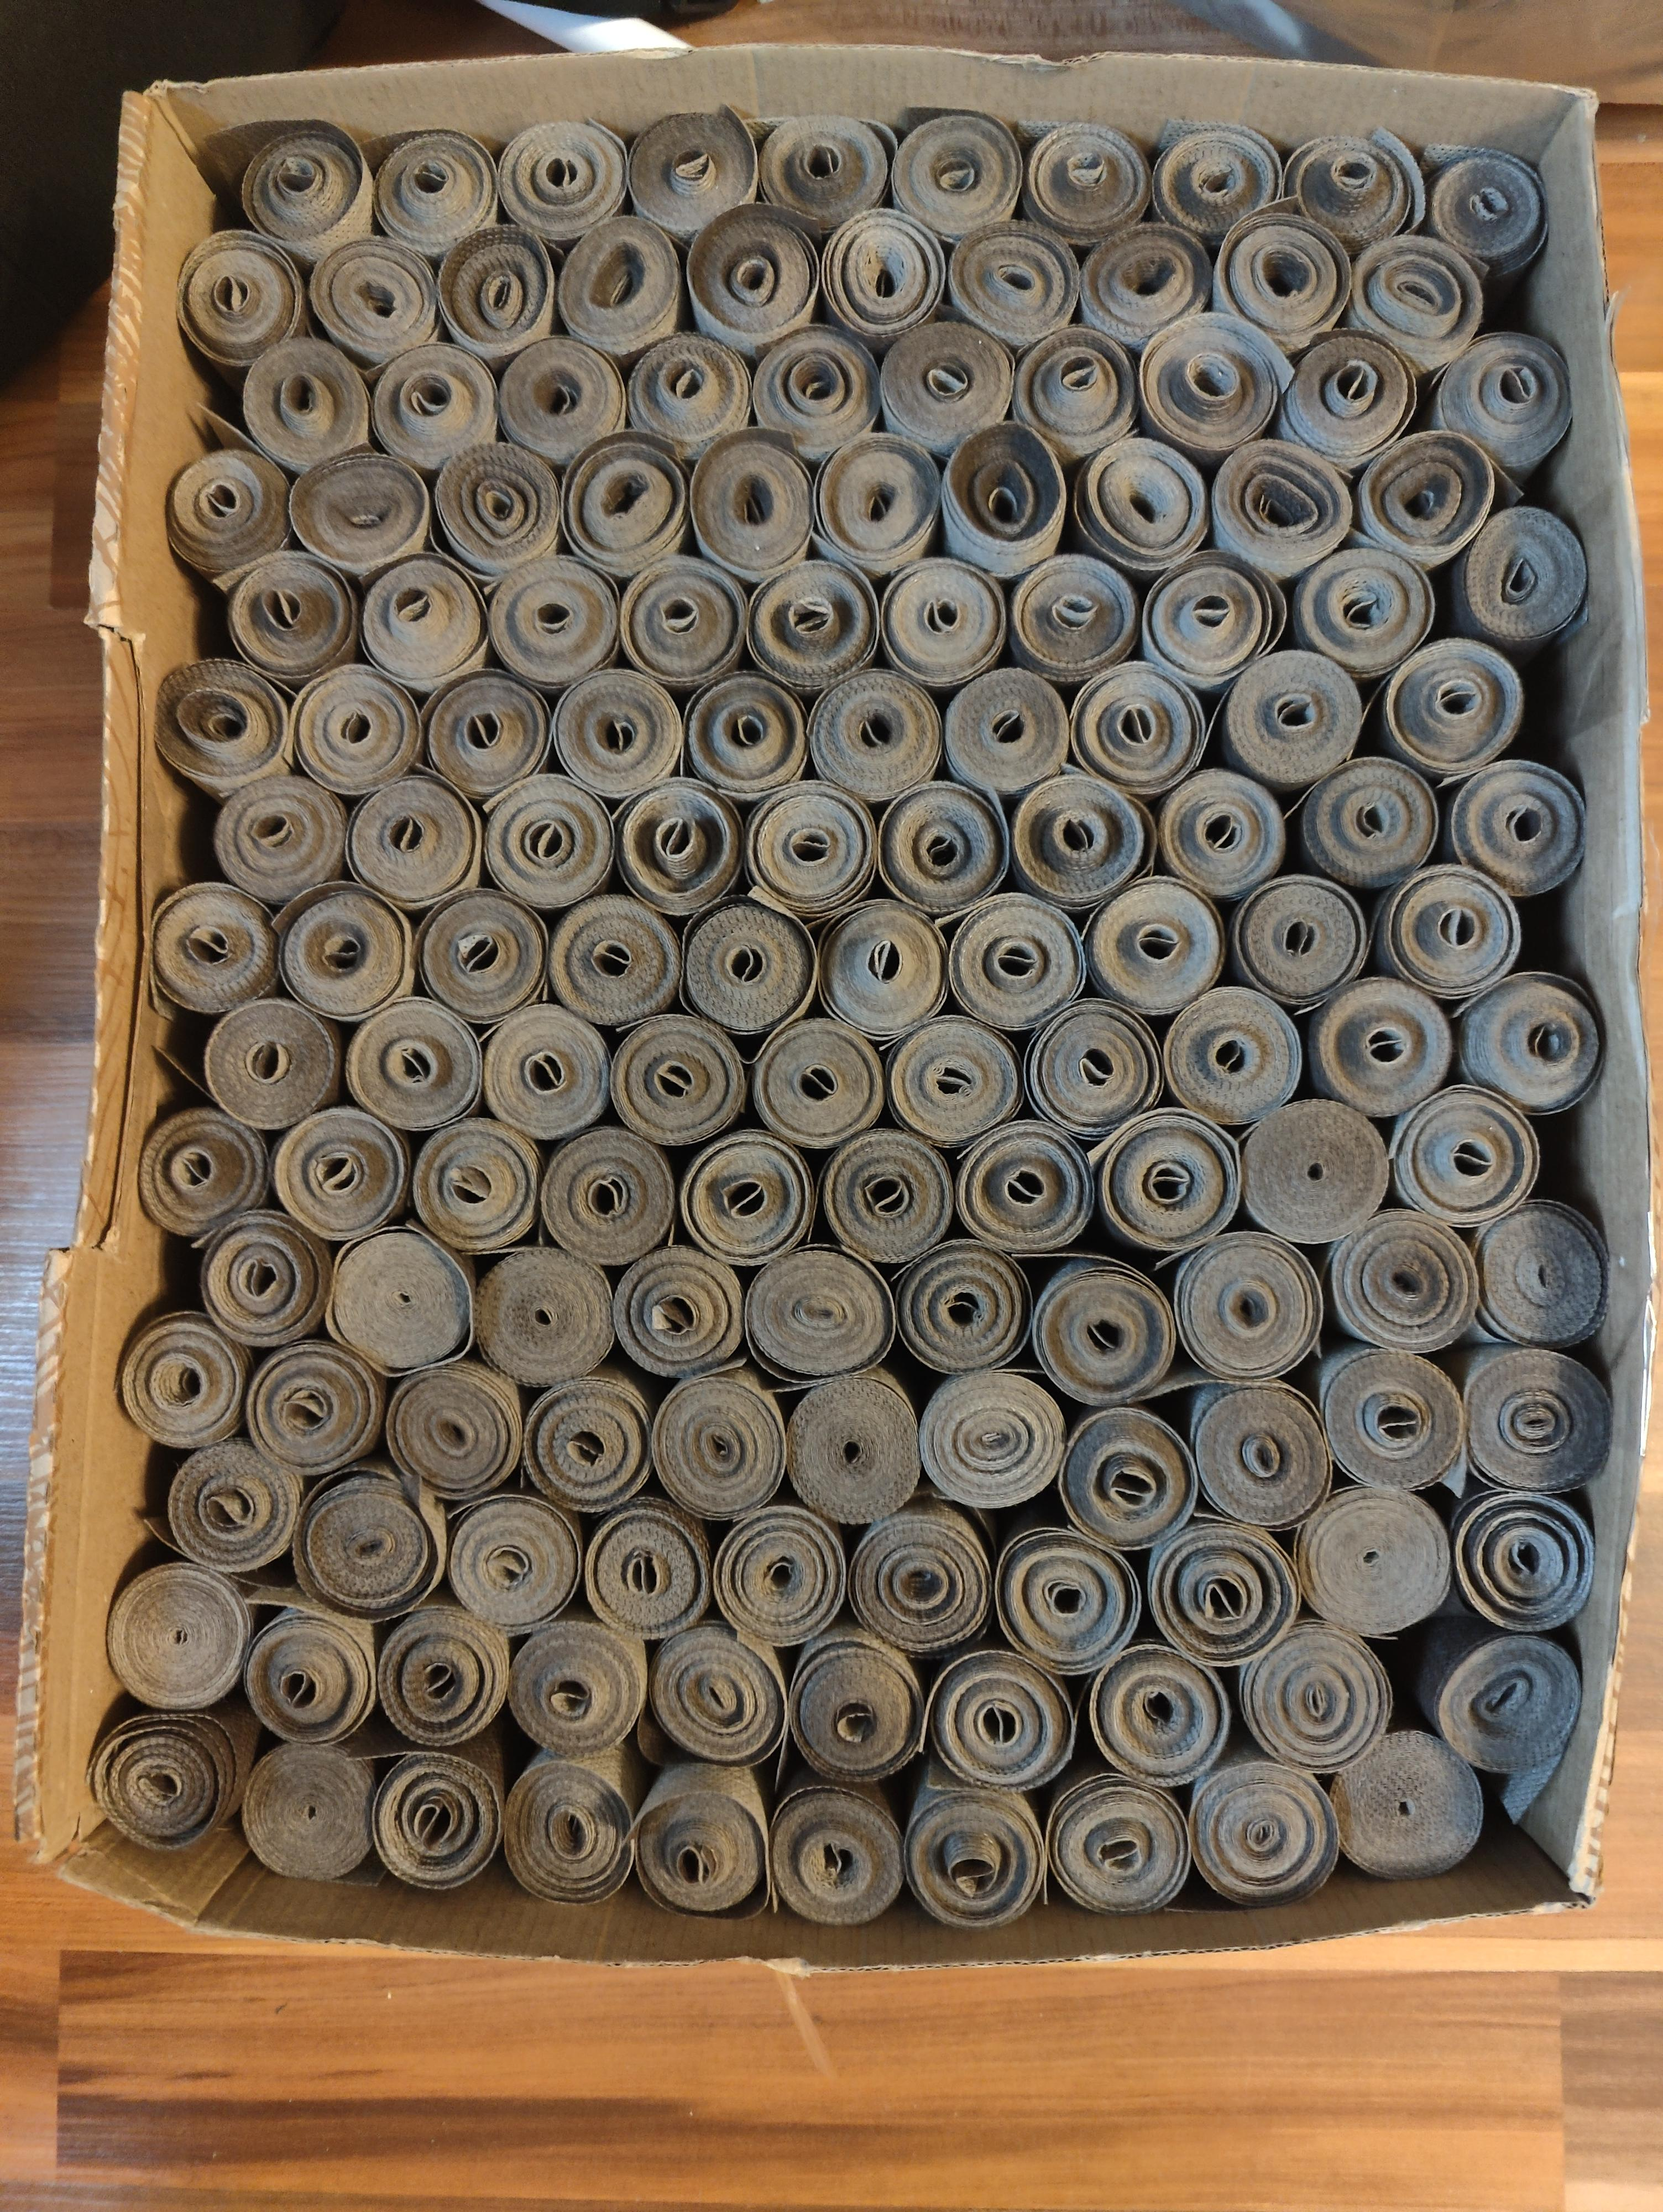roll: (1424, 1620, 1586, 1780), (84, 1702, 252, 1857), (1328, 1723, 1485, 1882), (1233, 1620, 1394, 1775), (1289, 1480, 1453, 1632), (1169, 1230, 1328, 1386), (1317, 1342, 1478, 1496), (1459, 1344, 1614, 1501), (1186, 1751, 1340, 1910), (1322, 1207, 1483, 1359), (1134, 309, 1287, 465), (323, 1225, 477, 1379), (1205, 435, 1357, 591), (1427, 330, 1577, 487), (1039, 1766, 1190, 1922), (500, 1751, 646, 1910), (1184, 1380, 1336, 1532), (103, 1560, 257, 1711), (1303, 971, 1459, 1120), (924, 1646, 1076, 1796), (1450, 1483, 1602, 1634), (290, 1466, 444, 1614), (898, 1780, 1048, 1931), (1146, 1517, 1298, 1665), (914, 1363, 1066, 1511), (935, 418, 1071, 582), (1349, 428, 1499, 577), (1235, 1096, 1390, 1239), (784, 1628, 926, 1786), (238, 1735, 384, 1885), (739, 1242, 889, 1389), (1455, 968, 1605, 1115), (847, 1501, 992, 1653), (1027, 1258, 1172, 1410), (1389, 1083, 1542, 1227), (470, 1244, 618, 1391), (992, 1522, 1137, 1672), (241, 1338, 386, 1487), (381, 1358, 526, 1506), (777, 1372, 921, 1522), (1471, 1200, 1614, 1351), (1287, 545, 1441, 685), (372, 1602, 517, 1749), (1085, 1642, 1230, 1789), (893, 1237, 1039, 1382), (1087, 1108, 1233, 1253), (1211, 203, 1357, 348), (1375, 861, 1525, 1003), (1452, 505, 1591, 657), (1375, 634, 1527, 774), (557, 432, 695, 585), (811, 430, 945, 587), (505, 1620, 652, 1763), (1277, 328, 1424, 472), (369, 1745, 508, 1896), (1441, 755, 1591, 895), (175, 229, 311, 383), (239, 1602, 381, 1749), (1055, 1405, 1197, 1552), (1343, 232, 1485, 379), (238, 124, 377, 273), (1214, 646, 1363, 786), (1293, 753, 1446, 888), (1156, 989, 1301, 1130), (114, 1307, 253, 1454), (288, 447, 435, 587), (683, 426, 811, 587), (341, 994, 489, 1132), (536, 1125, 680, 1267), (442, 1489, 587, 1628), (641, 1621, 779, 1768), (646, 1372, 783, 1520), (552, 215, 687, 365), (194, 1209, 335, 1351), (954, 1120, 1097, 1260), (875, 316, 1013, 461), (162, 442, 297, 591), (765, 1779, 896, 1931), (627, 1777, 767, 1918), (521, 1375, 660, 1517), (407, 1113, 547, 1255), (267, 1106, 409, 1246), (479, 1003, 620, 1143), (1083, 874, 1226, 1012), (610, 1244, 748, 1386), (430, 439, 568, 580), (484, 556, 625, 694), (943, 895, 1087, 1031), (239, 334, 374, 479), (1069, 432, 1202, 578), (273, 886, 412, 1024), (494, 115, 636, 252), (1418, 145, 1553, 288), (882, 1012, 1022, 1148), (1024, 998, 1163, 1134), (306, 234, 440, 376), (203, 991, 344, 1125), (625, 105, 756, 250), (685, 201, 809, 353), (496, 334, 632, 472), (942, 218, 1078, 356), (1006, 769, 1146, 903), (479, 774, 620, 907), (1228, 874, 1370, 1006), (435, 225, 562, 372), (819, 203, 947, 349), (816, 1127, 952, 1263), (886, 108, 1022, 245), (678, 1129, 812, 1267), (545, 891, 683, 1026), (816, 898, 950, 1036), (604, 1013, 739, 1150), (367, 342, 501, 479), (355, 556, 491, 690), (1006, 552, 1142, 687), (938, 664, 1074, 798), (582, 1501, 714, 1639), (1074, 222, 1212, 355), (873, 778, 1011, 910), (807, 662, 945, 795), (218, 556, 358, 687), (411, 889, 550, 1020), (150, 657, 293, 785), (1010, 325, 1137, 468), (162, 1436, 297, 1571), (1020, 117, 1155, 252), (1066, 653, 1200, 788), (135, 1103, 271, 1235), (145, 881, 283, 1012), (877, 556, 1011, 688), (370, 128, 501, 264), (286, 657, 423, 788), (419, 667, 555, 798), (1153, 769, 1289, 900), (342, 772, 480, 902), (549, 666, 687, 793), (1279, 131, 1418, 257), (1148, 121, 1280, 252), (748, 1013, 879, 1146), (617, 563, 748, 695), (744, 779, 877, 910), (208, 774, 346, 900), (748, 323, 873, 461), (707, 1503, 830, 1644), (756, 108, 884, 243), (624, 330, 751, 465), (744, 559, 872, 690), (611, 778, 739, 907), (678, 896, 800, 1029), (681, 667, 805, 791), (1144, 556, 1268, 674), (189, 1691, 269, 1814)
